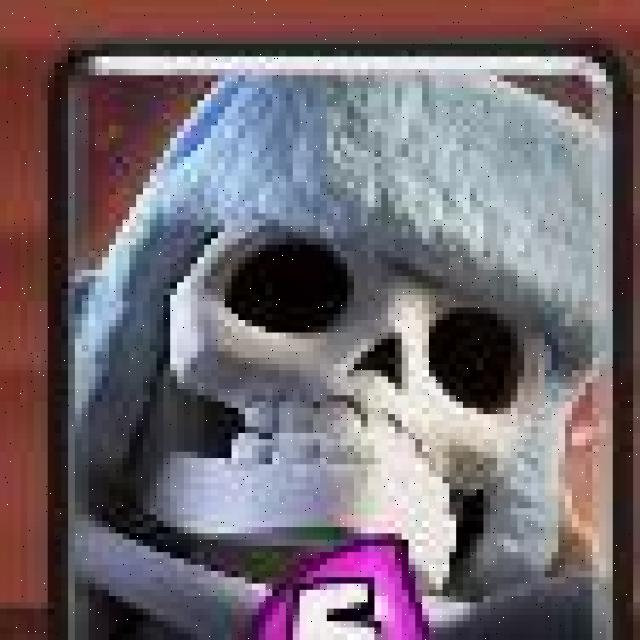Giant_Skeleton: (47, 45, 633, 640)
